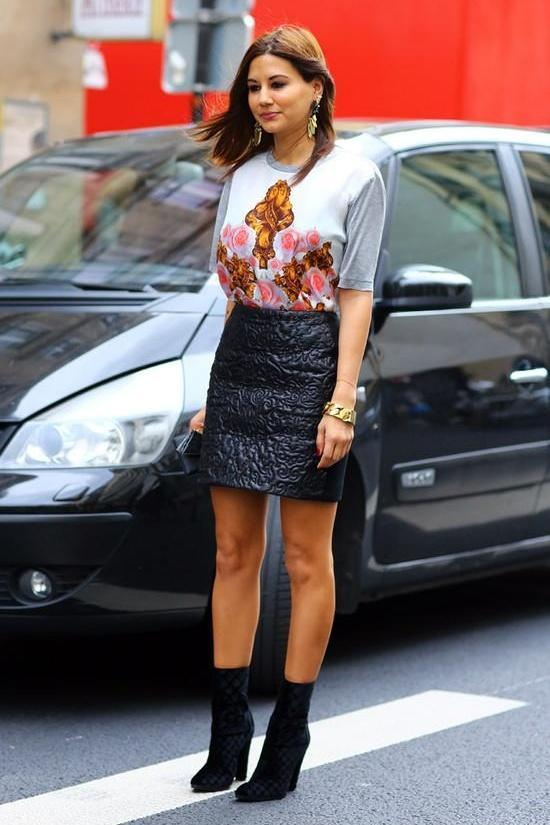Tshirt: (206, 144, 385, 317)
skirt: (202, 302, 346, 502)
